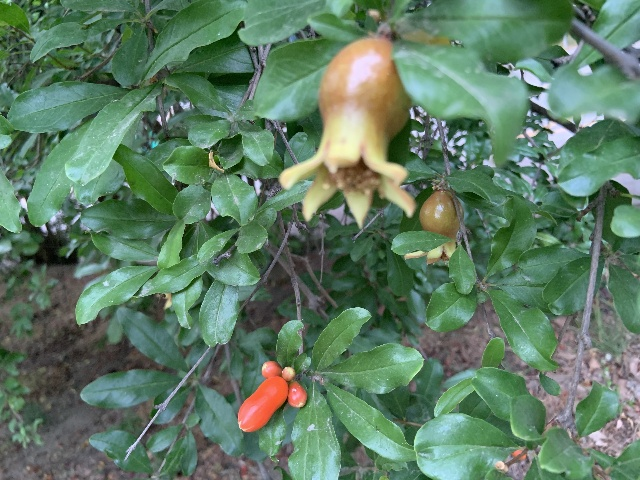bud: (238, 376, 288, 432), (287, 381, 306, 408), (261, 360, 281, 379), (281, 366, 295, 380)
early-fruit: (279, 37, 415, 228), (404, 190, 464, 265)
